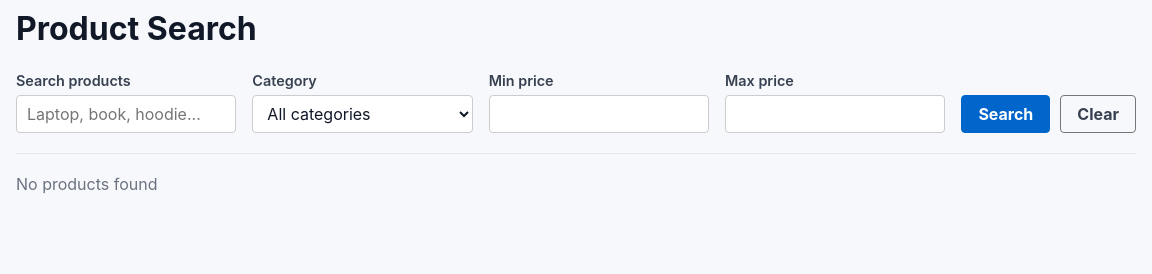
Scenario: ProductSearch › shows client-side error when min price > max price
In the number field with test id "min-price-input": [599, 114] box [489,95,709,133], type "500"
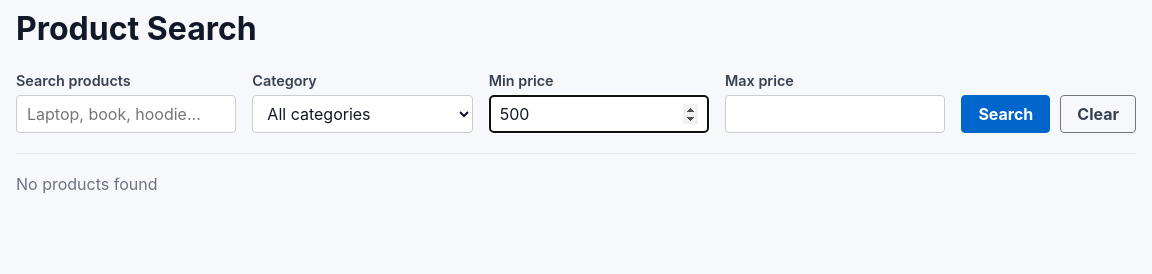
In the number field with test id "max-price-input": [835, 114] box [725,95,945,133], type "100"
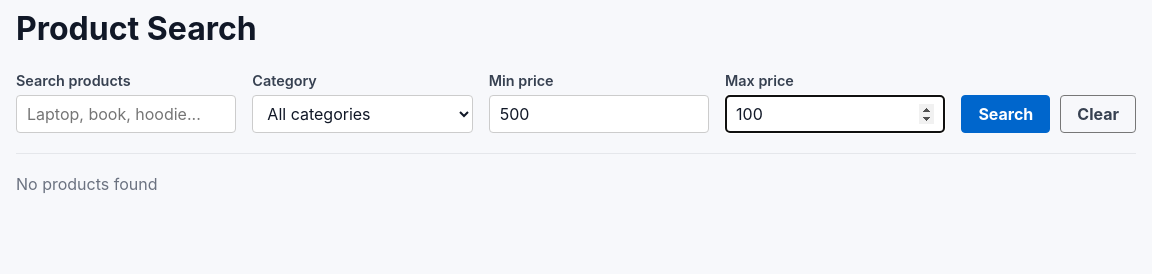
Click the button with test id "search-button": [1006, 114] box [961,95,1050,133]
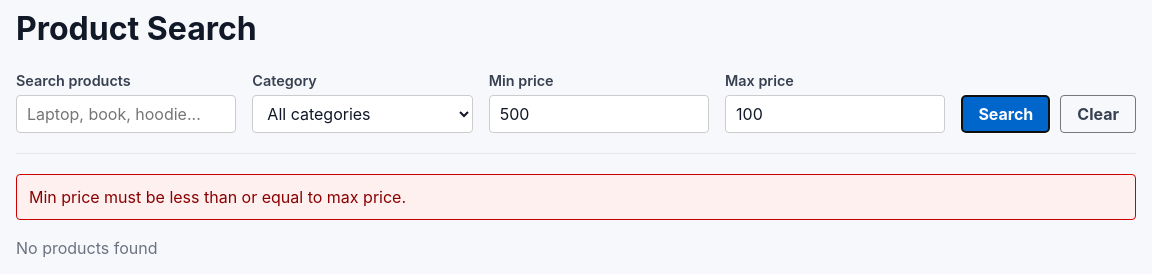
Expected: the message with test id "error-message" reads "Min price must be less than or equal to max price.", [29,187,406,207]
